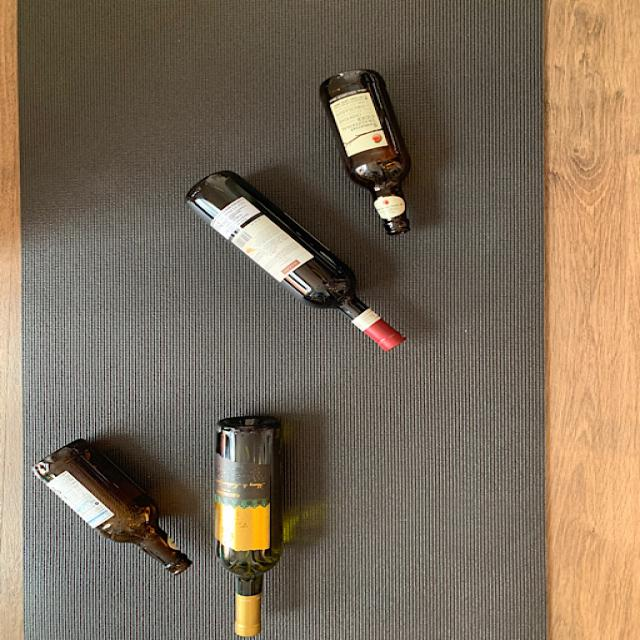Glass Bottle: (168, 172, 408, 354), (28, 434, 194, 578), (203, 406, 297, 640), (316, 65, 412, 240)
